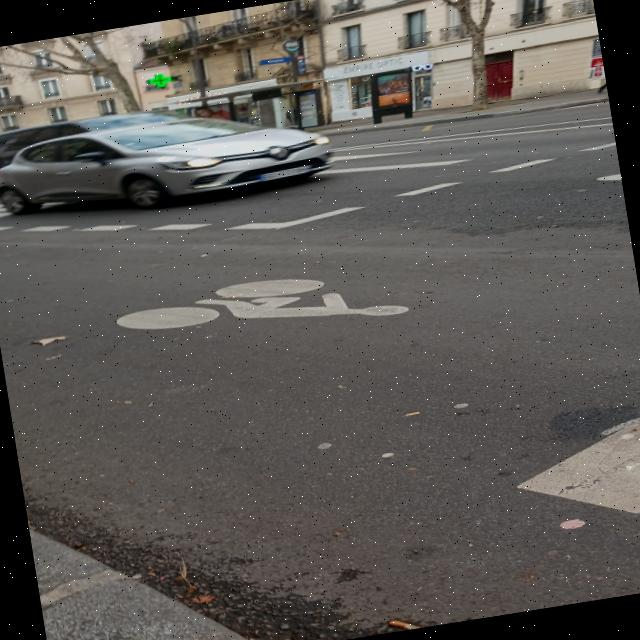Autre: (251, 157, 332, 184)
